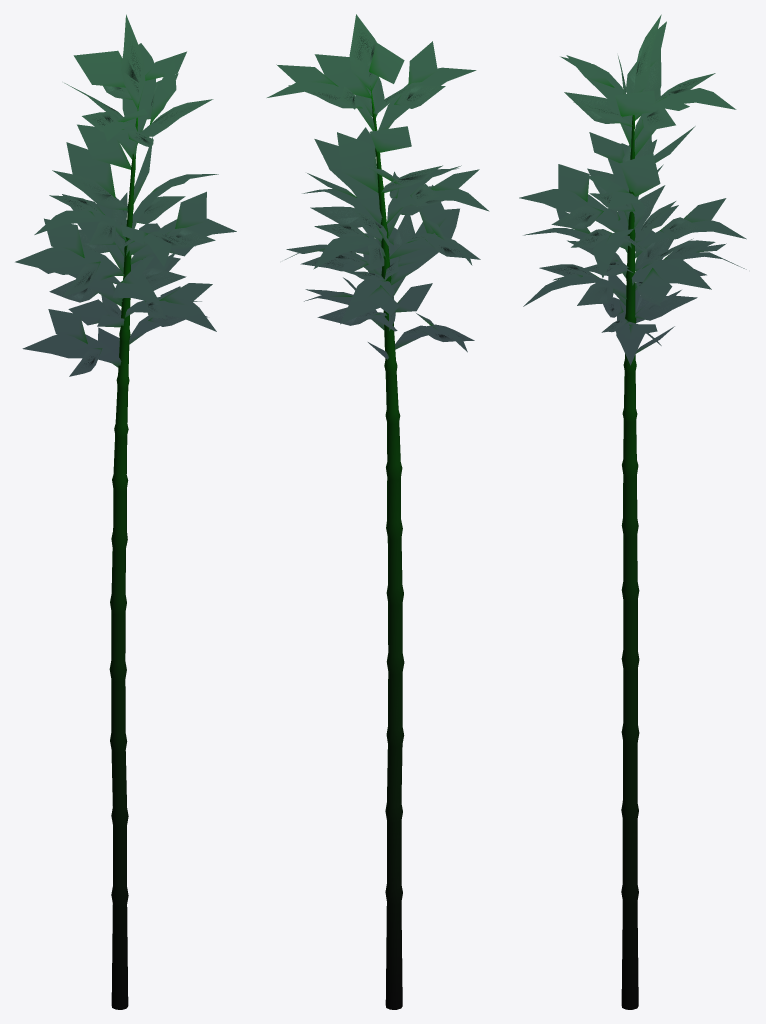
The model's file is TSI_Bamboo_07B.fbx.
3 views of the same model, side by side, from view 1: azimuth 30°, elevation 25°; view 2: azimuth 150°, elevation 25°; view 3: azimuth 270°, elevation 25° (orthographic). The views are drawn at different scales.
Parts seen in each view (by area): view 1: TSI_Bamboo_07B_LOD0; view 2: TSI_Bamboo_07B_LOD0; view 3: TSI_Bamboo_07B_LOD0.
Boxes of the visible parts, x1,y1,x2,y2 form: TSI_Bamboo_07B_LOD0: (15, 14, 236, 1009); TSI_Bamboo_07B_LOD0: (267, 14, 489, 1009); TSI_Bamboo_07B_LOD0: (519, 14, 746, 1009).
Size of the model in its own units: 216 by 1031 by 217.
